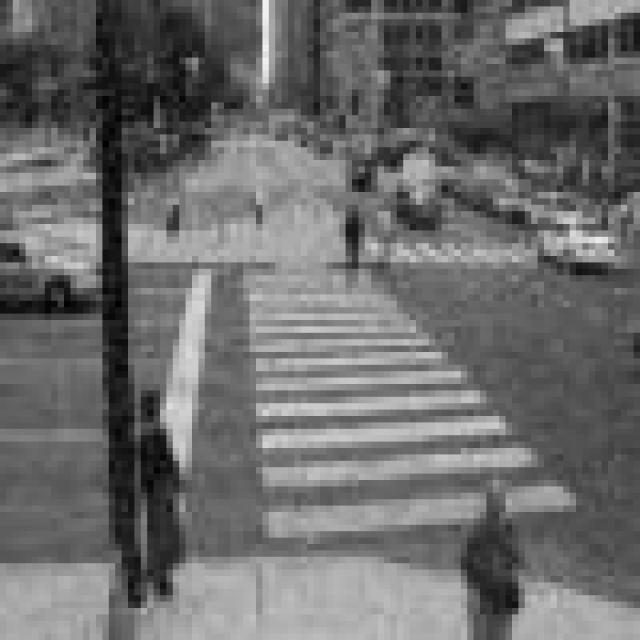crosswalk: (238, 264, 580, 538), (380, 223, 564, 271)
